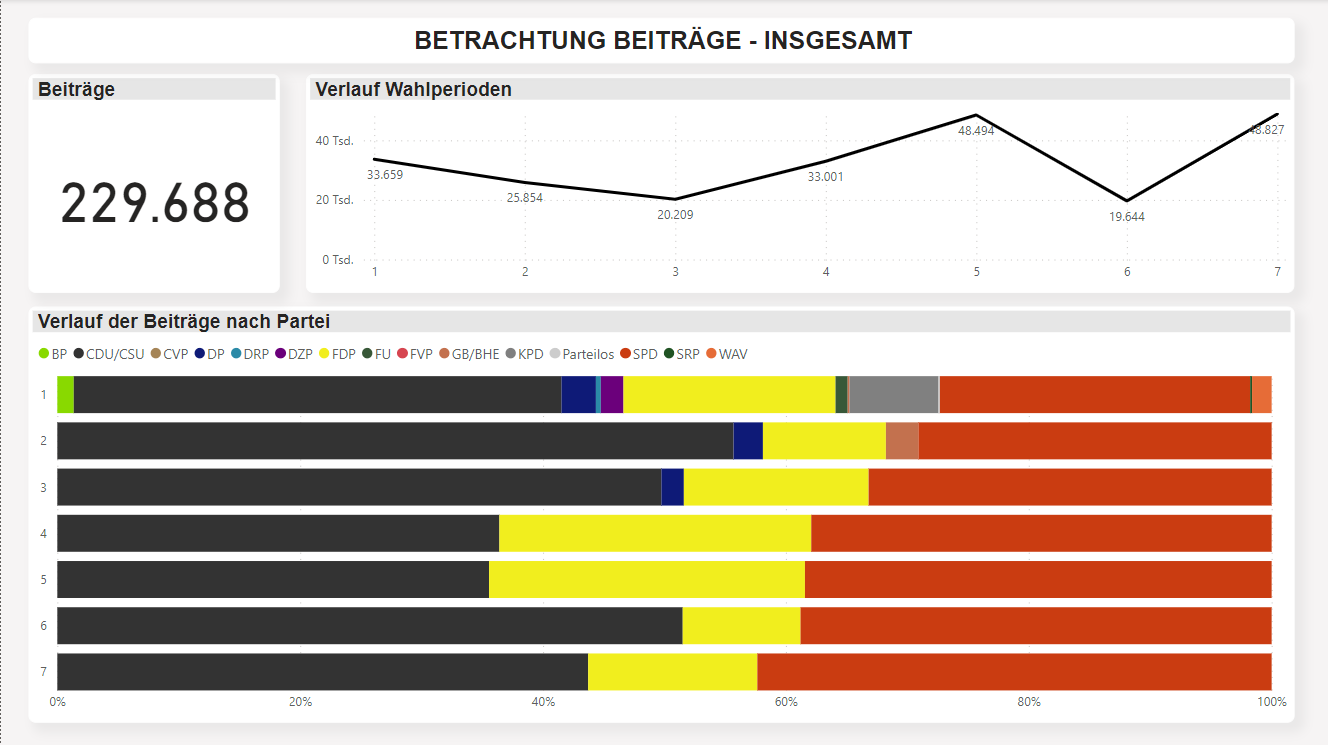

The dashboard page shown, as its layout file describes it:
{"tool":"powerbi","page":{"name":"Beiträge","canvas":[1280,720],"ordinal":4},"visuals":[{"type":"lineChart","title":"Verlauf Wahlperioden","fields":{"Y":["Measure_Table.Beiträge"],"Category":["RB.WAHLPERIODE","RB.NR"]},"box":[294.3,72.4,954,211.1],"z":0},{"type":"hundredPercentStackedBarChart","title":"Verlauf der Beiträge nach Partei","fields":{"Y":["Measure_Table.Beiträge"],"Category":["RB.WAHLPERIODE"],"Series":["RB.PARTEI_KURZ"]},"box":[26.5,296.7,1221.7,401.6],"z":1000},{"type":"card","title":"Beiträge","fields":{"Values":["Measure_Table.Beiträge"]},"box":[26.5,72.4,242.4,211.1],"z":2000},{"type":"textbox","box":[26.6,17.5,1222,43.8],"z":3000}]}

Visuals, with their boxes in screenshot pixels (x1, y1, x2, y2), scaled from the page's 1280x720 canvas onto the 1328x745 screenshot:
"Verlauf Wahlperioden" lineChart: select_region(305, 75, 1295, 293)
"Verlauf der Beiträge nach Partei" hundredPercentStackedBarChart: select_region(27, 307, 1295, 723)
"Beiträge" card: select_region(27, 75, 279, 293)
textbox: select_region(28, 18, 1295, 63)
